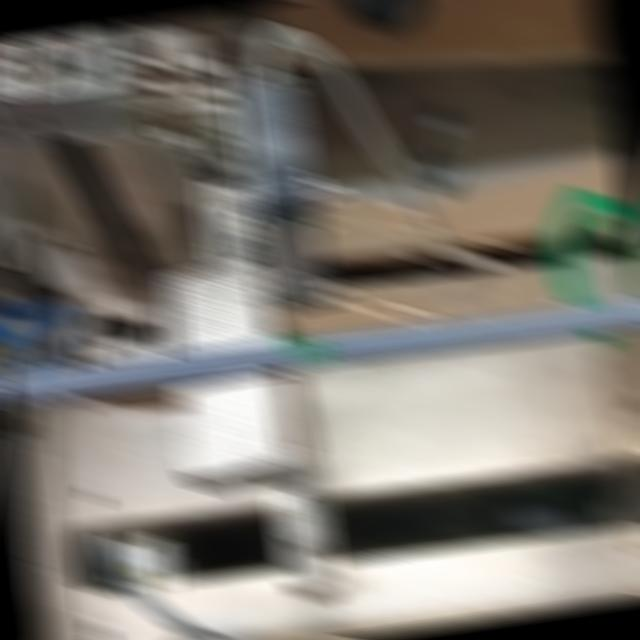green: (280, 332, 333, 368)
